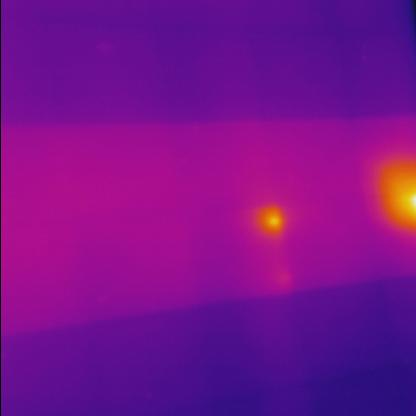hotspot: (365, 157, 415, 228), (256, 203, 284, 234)
